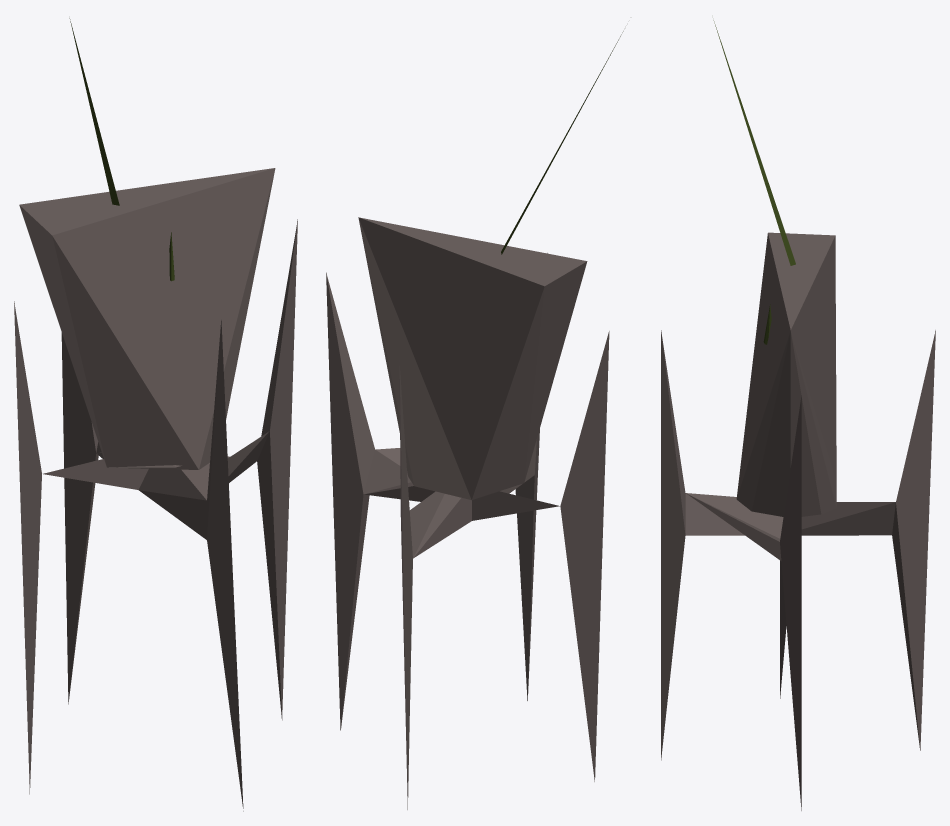
The model's file is monstera.lod2.glb.
3 views of the same model, side by side, from view 1: azimuth 30°, elevation 25°; view 2: azimuth 150°, elevation 25°; view 3: azimuth 270°, elevation 25° (orthographic). The views are drawn at different scales.
Visible parts, largest first — view 1: root_HP_1_Mat.2_0; view 2: root_HP_1_Mat.2_0; view 3: root_HP_1_Mat.2_0.
Part boxes in pixels (x1,y1,x2,y2): root_HP_1_Mat.2_0: (14,18,297,811); root_HP_1_Mat.2_0: (326,31,623,809); root_HP_1_Mat.2_0: (661,20,935,810).
Bounding box in the file's own units: 0.3684 × 0.9624 × 0.3486.
